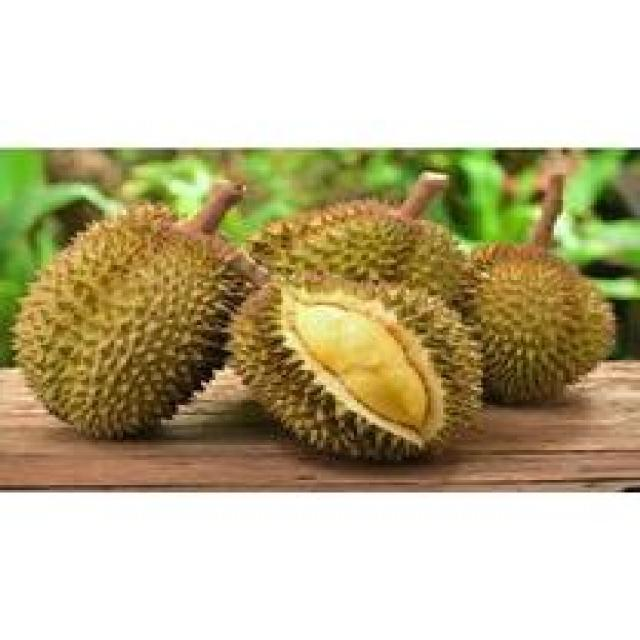fruit: (222, 180, 489, 478), (0, 187, 255, 450), (458, 235, 628, 417)
